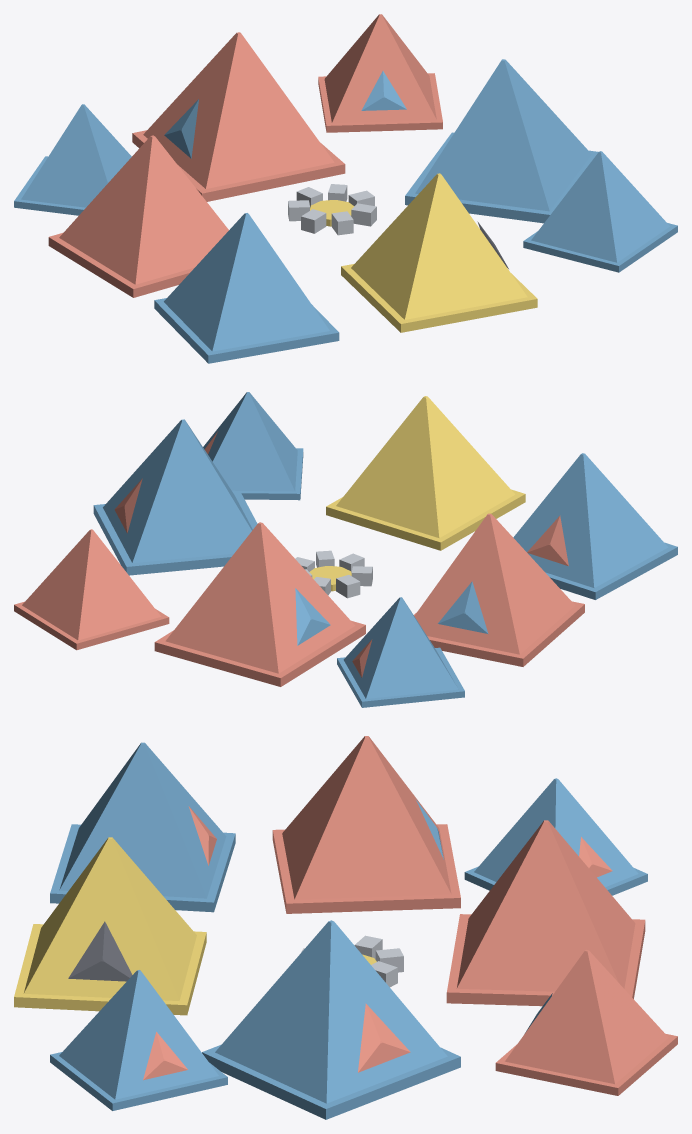
Rendered from CampingField.fbx.
The picture shows the model from 3 angles, top to bottom: view 1: azimuth 30°, elevation 25°; view 2: azimuth 150°, elevation 25°; view 3: azimuth 270°, elevation 25°; orthographic projection. The views are drawn at different scales.
Parts seen in each view (by area): view 1: Camp_Tent5, Camp_Tent3, Camp_Tent7, Camp_Tent1, Camp_Tent0, Camp_Tent8, Camp_Tent6, Camp_Tent2, Camp_Ember; view 2: Camp_Tent5, Camp_Tent3, Camp_Tent7, Camp_Tent1, Camp_Tent0, Camp_Tent8, Camp_Tent2, Camp_Tent6, Camp_Ember; view 3: Camp_Tent7, Camp_Tent1, Camp_Tent5, Camp_Tent3, Camp_Tent0, Camp_Tent8, Camp_Tent6, Camp_Tent2.
Boxes of the visible parts, x1,y1,x2,y2 form: Camp_Tent5: [132, 32, 345, 201]; Camp_Tent3: [341, 173, 537, 332]; Camp_Tent7: [405, 59, 598, 223]; Camp_Tent1: [48, 135, 228, 297]; Camp_Tent0: [154, 213, 339, 363]; Camp_Tent8: [318, 14, 442, 132]; Camp_Tent6: [523, 151, 677, 272]; Camp_Tent2: [14, 104, 131, 215]; Camp_Ember: [310, 200, 354, 226]; Camp_Tent5: [154, 522, 365, 686]; Camp_Tent3: [326, 396, 525, 550]; Camp_Tent7: [93, 419, 257, 575]; Camp_Tent1: [414, 513, 584, 666]; Camp_Tent0: [513, 453, 677, 599]; Camp_Tent8: [14, 529, 169, 650]; Camp_Tent2: [337, 597, 464, 707]; Camp_Tent6: [203, 392, 303, 500]; Camp_Ember: [309, 566, 351, 591]; Camp_Tent7: [202, 920, 460, 1119]; Camp_Tent1: [272, 736, 460, 913]; Camp_Tent5: [446, 820, 645, 1006]; Camp_Tent3: [14, 837, 206, 1015]; Camp_Tent0: [50, 742, 235, 912]; Camp_Tent8: [495, 950, 677, 1095]; Camp_Tent6: [50, 970, 227, 1110]; Camp_Tent2: [464, 778, 647, 895].
Size of the model in its own units: 774 by 184 by 759.
